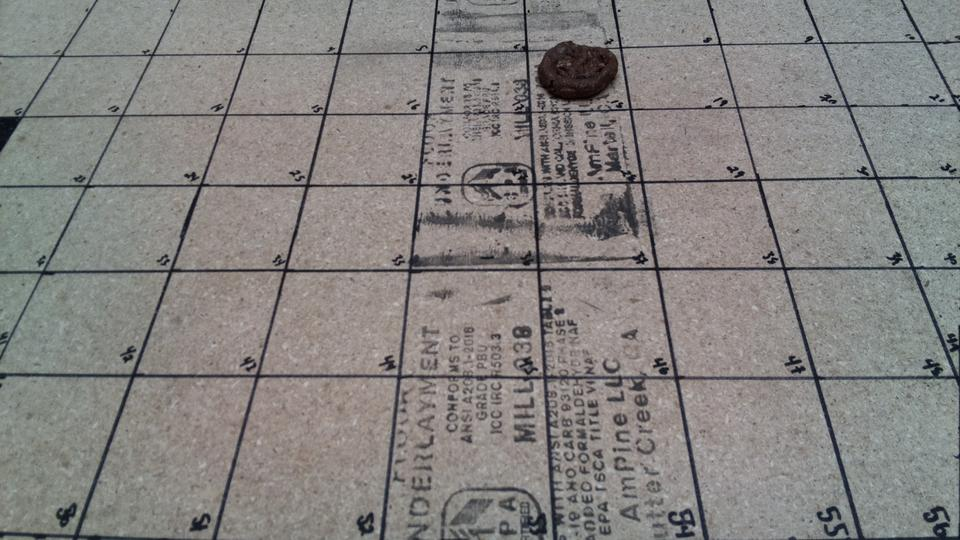poop: (537, 38, 619, 103)
